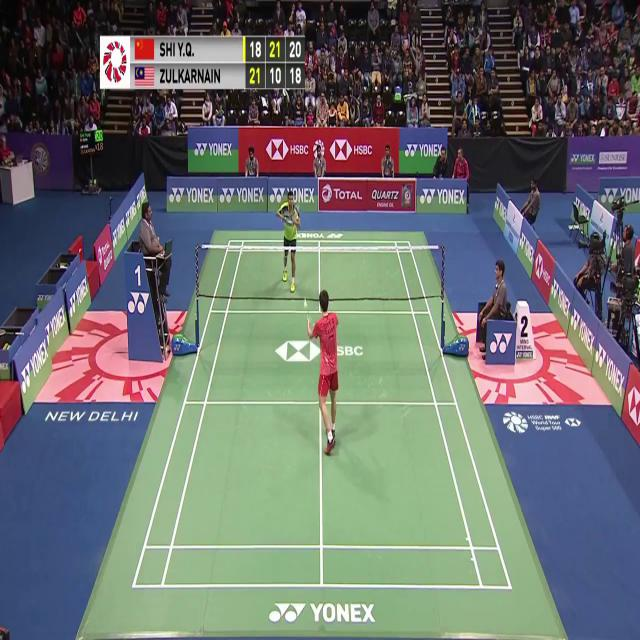Shuttlecock: (301, 296, 308, 307)
